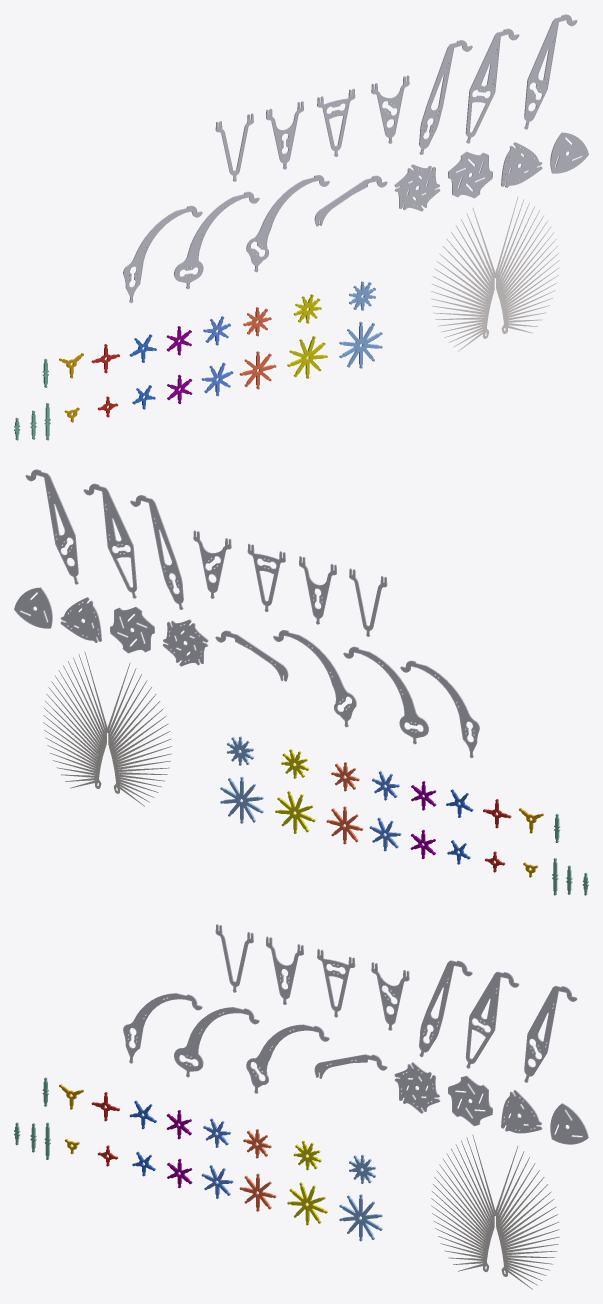
The model's file is Christmas Set 1.fbx.
3 views of the same model, one above another, from view 1: azimuth 30°, elevation 25°; view 2: azimuth 150°, elevation 25°; view 3: azimuth 330°, elevation 25° (orthographic).
Parts seen in each view (by area): view 1: f_feather, Amaria_m4_1, Amaria_m5_1, Amaria_b1, Amaria_b1l, Amaria_m3_1, Amaria_m4, Amaria_m5, Amaria_b2, Amaria_m3, Amaria_b2l, Amaria_f4 (+6 smaller); view 2: f_feather, Amaria_m4_1, Amaria_m5_1, Amaria_b1, Amaria_b1l, Amaria_m3_1, Amaria_m4, Amaria_m5, Amaria_b2, Amaria_m3, Amaria_b2l, Amaria_f4 (+6 smaller); view 3: f_feather, Amaria_m4_1, Amaria_m5_1, Amaria_b1, Amaria_b1l, Amaria_m3_1, Amaria_m4, Amaria_b2, Amaria_m5, Amaria_b2l, Amaria_m3, Amaria_f5 (+7 smaller).
Boxes of the visible parts, left/top/right/bottom form: f_feather: left=431, top=196, right=559, bottom=351; Amaria_m4_1: left=465, top=28, right=519, bottom=143; Amaria_m5_1: left=524, top=14, right=577, bottom=129; Amaria_b1: left=394, top=164, right=440, bottom=211; Amaria_b1l: left=448, top=151, right=492, bottom=198; Amaria_m3_1: left=419, top=40, right=472, bottom=154; Amaria_m4: left=174, top=191, right=259, bottom=289; Amaria_m5: left=246, top=175, right=329, bottom=272; Amaria_b2: left=501, top=142, right=542, bottom=187; Amaria_m3: left=123, top=205, right=202, bottom=303; Amaria_b2l: left=550, top=132, right=588, bottom=173; Amaria_f4: left=317, top=88, right=355, bottom=156; f_feather: left=43, top=651, right=171, bottom=806; Amaria_m4_1: left=83, top=483, right=137, bottom=598; Amaria_m5_1: left=25, top=469, right=78, bottom=584; Amaria_b1: left=162, top=619, right=208, bottom=666; Amaria_b1l: left=110, top=606, right=154, bottom=653; Amaria_m3_1: left=130, top=495, right=183, bottom=609; Amaria_m4: left=343, top=646, right=428, bottom=744; Amaria_m5: left=273, top=630, right=356, bottom=727; Amaria_b2: left=60, top=597, right=101, bottom=642; Amaria_m3: left=400, top=660, right=479, bottom=758; Amaria_b2l: left=14, top=587, right=52, bottom=628; Amaria_f4: left=247, top=543, right=285, bottom=611; f_feather: left=431, top=1134, right=559, bottom=1289; Amaria_m4_1: left=465, top=971, right=519, bottom=1068; Amaria_m5_1: left=524, top=985, right=577, bottom=1082; Amaria_b1: left=394, top=1062, right=440, bottom=1113; Amaria_b1l: left=448, top=1075, right=492, bottom=1125; Amaria_m3_1: left=419, top=960, right=472, bottom=1057; Amaria_m4: left=174, top=1007, right=259, bottom=1077; Amaria_b2: left=501, top=1090, right=542, bottom=1133; Amaria_m5: left=246, top=1024, right=329, bottom=1093; Amaria_b2l: left=550, top=1103, right=588, bottom=1144; Amaria_m3: left=123, top=993, right=202, bottom=1063; Amaria_f5: left=371, top=962, right=409, bottom=1030.
Size of the model in its own units: 344 by 178 by 1.17.
